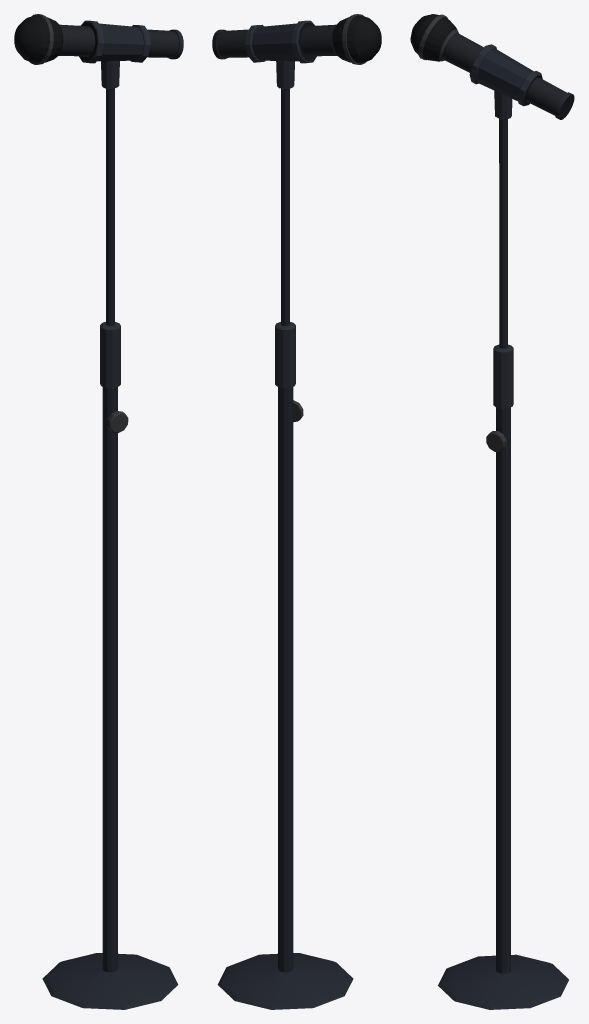
Rendered from Microphone.fbx.
The picture shows the model from 3 angles, left to right: view 1: azimuth 30°, elevation 25°; view 2: azimuth 150°, elevation 25°; view 3: azimuth 330°, elevation 25°; orthographic projection. The views are drawn at different scales.
Parts seen in each view (by area): view 1: microphonestand, microphone; view 2: microphonestand, microphone; view 3: microphonestand, microphone.
Part boxes in pixels (x1,y1,x2,y2): microphonestand: (42, 20, 178, 1009); microphone: (14, 14, 183, 64); microphonestand: (217, 20, 353, 1009); microphone: (212, 14, 381, 64); microphonestand: (438, 44, 568, 1009); microphone: (410, 14, 574, 119).
Bounding box in the file's own units: 23.57 × 137 × 16.47.
Materials: 1 (1 with a texture image).
